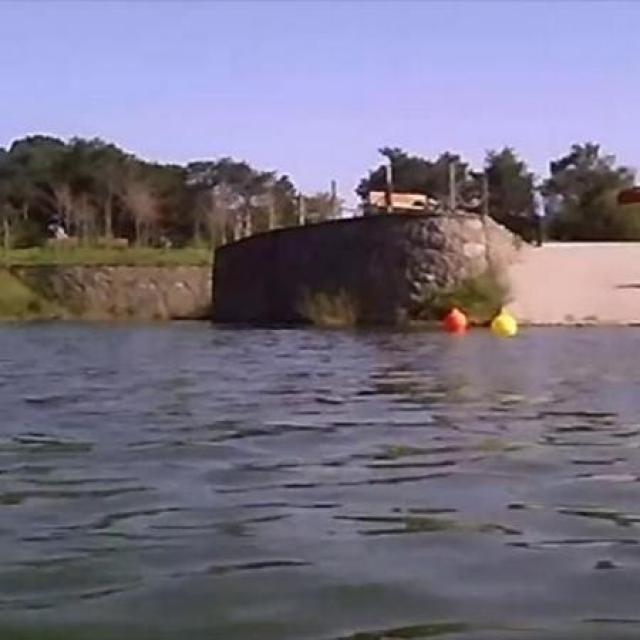buoy: (490, 309, 518, 337), (444, 309, 468, 332)
